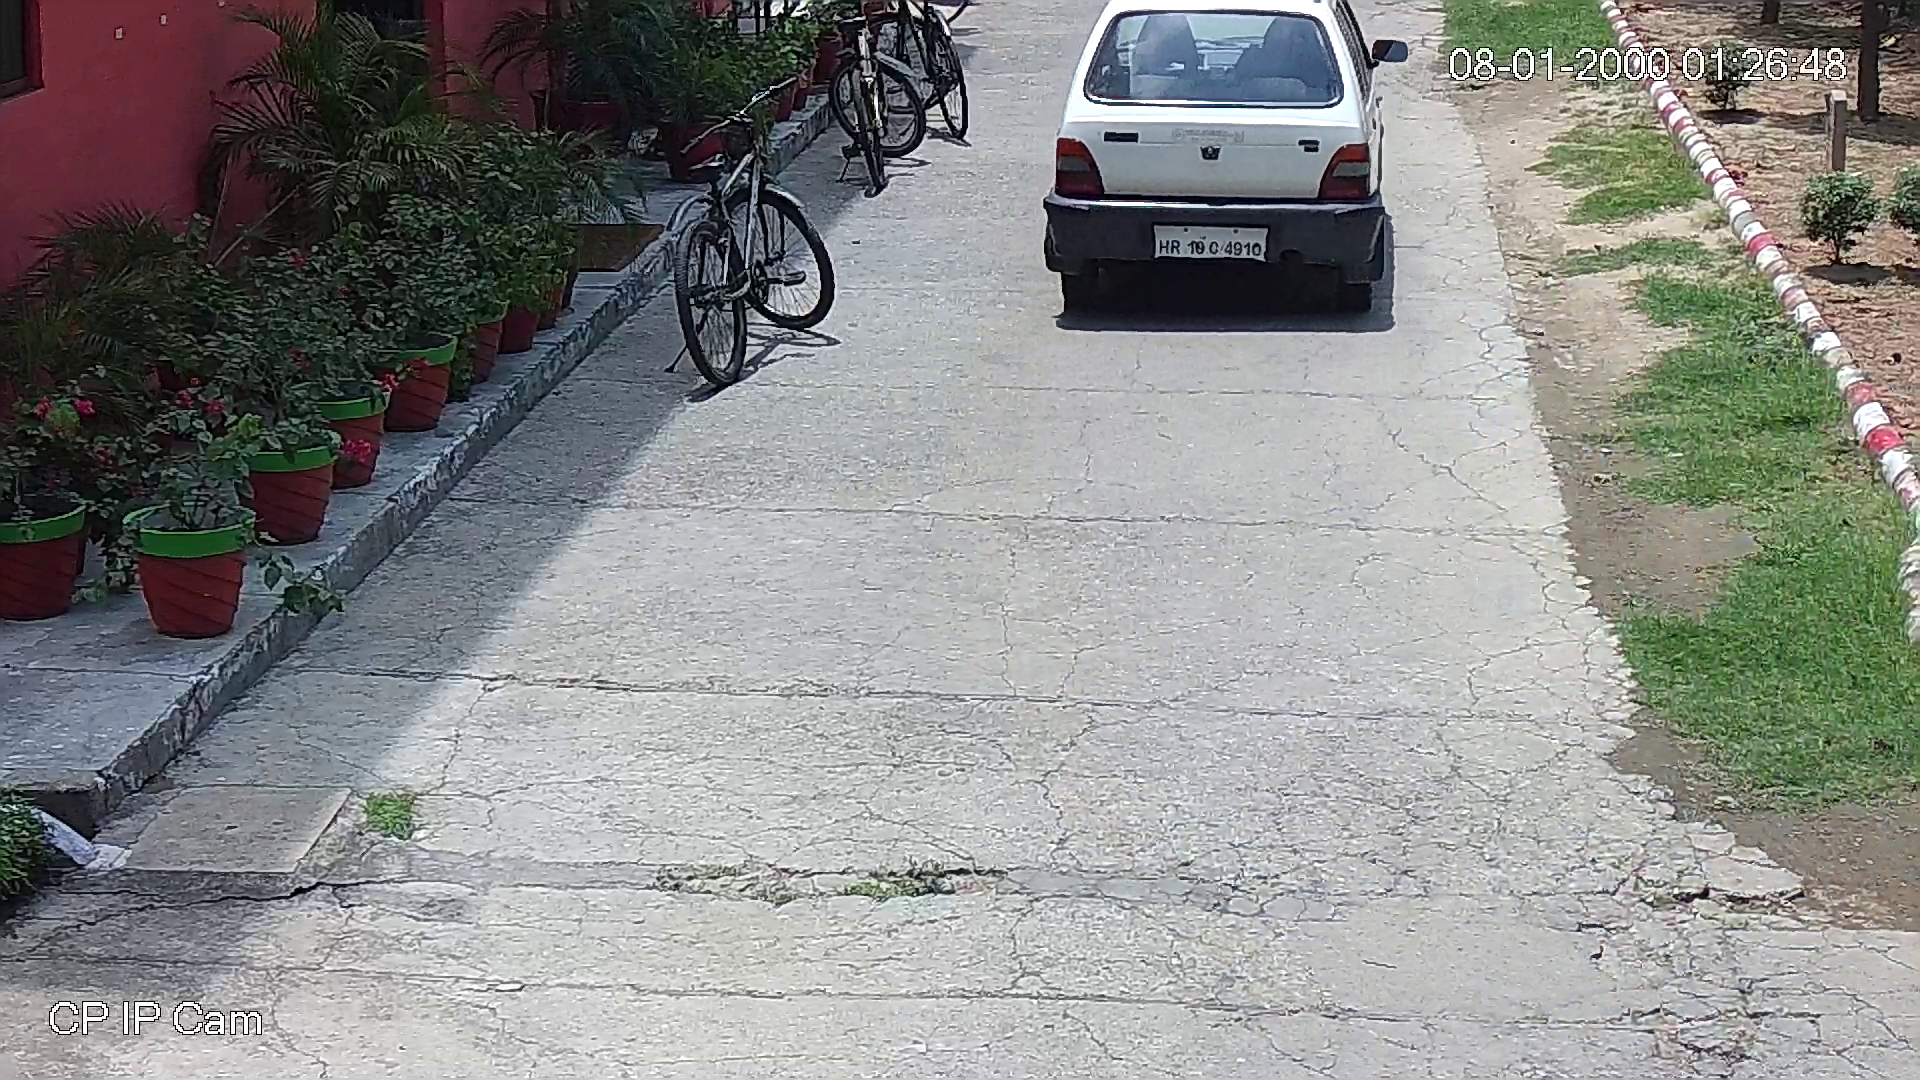plate: (1145, 220, 1270, 262)
